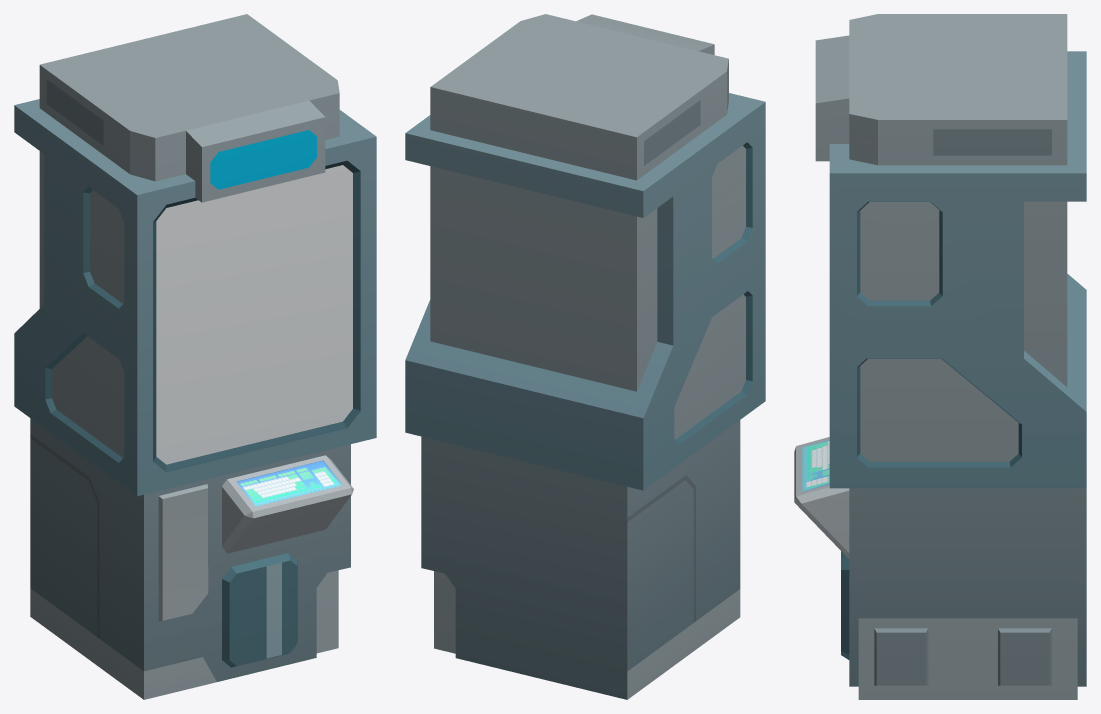
Rendered from Vending_Machine_001.fbx.
3 views of the same model, side by side, from view 1: azimuth 30°, elevation 25°; view 2: azimuth 150°, elevation 25°; view 3: azimuth 270°, elevation 25° (orthographic). The views are drawn at different scales.
Parts seen in each view (by area): view 1: Vending_Machine_001; view 2: Vending_Machine_001; view 3: Vending_Machine_001.
Part boxes in pixels (box(x1,y1,x2,y2)): Vending_Machine_001: box(14, 14, 376, 699); Vending_Machine_001: box(405, 14, 765, 699); Vending_Machine_001: box(794, 14, 1086, 699).
Size of the model in its own units: 90 by 91.06 by 201.
